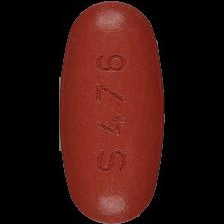54092-476: (0, 0, 224, 224)
